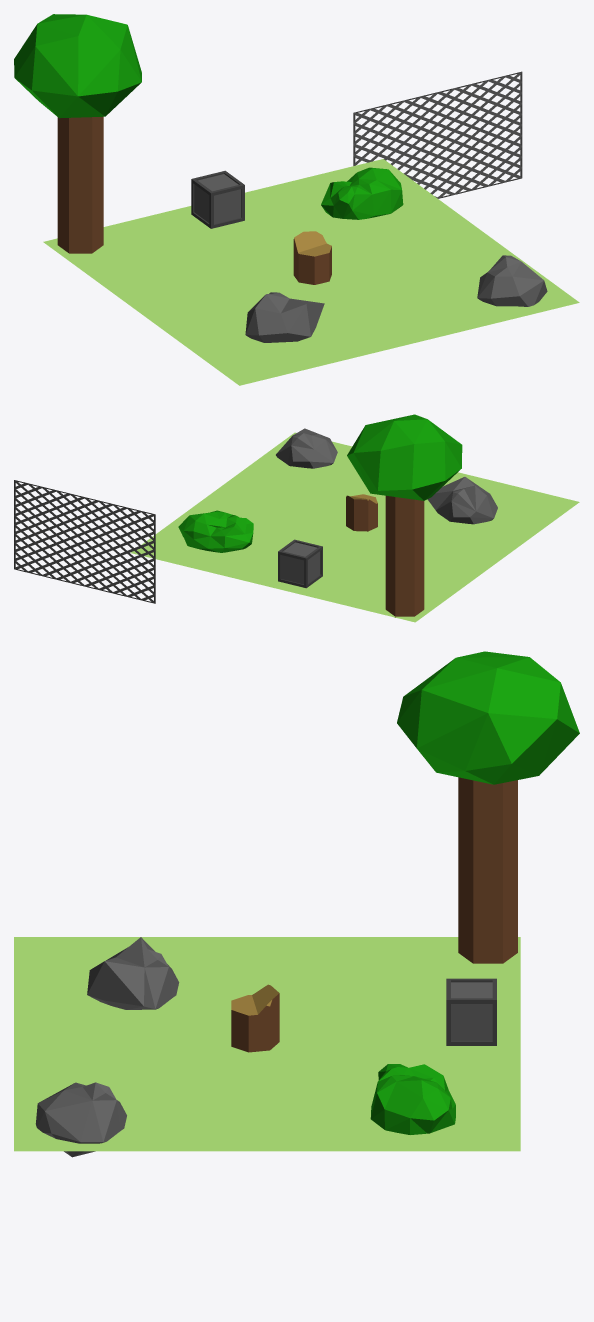
Rendered from SceneObjects.fbx.
3 renders of one model, top to bottom at view 1: azimuth 30°, elevation 25°; view 2: azimuth 150°, elevation 25°; view 3: azimuth 270°, elevation 25°, orthographic. The views are drawn at different scales.
Parts seen in each view (by area): view 1: Plane, Tree, Fence, Bush1, Bolder2, Bolder1, Cube, CutLog; view 2: Plane, Tree, Fence, Bush1, Bolder2, Cube, Bolder1, CutLog; view 3: Plane, Tree, Bush1, Bolder2, Bolder1, Cube, CutLog.
Boxes of the visible parts, box(x1,y1,x2,y2) form: Plane: box(43, 159, 579, 385); Tree: box(14, 14, 141, 253); Fence: box(353, 71, 522, 198); Bush1: box(321, 167, 403, 219); Bolder2: box(245, 292, 324, 342); Bolder1: box(477, 255, 547, 306); Cube: box(191, 170, 244, 228); CutLog: box(293, 231, 331, 284); Plane: box(130, 432, 579, 622); Tree: box(347, 414, 462, 617); Fence: box(14, 480, 155, 603); Bush1: box(178, 510, 253, 552); Bolder2: box(427, 477, 497, 524); Cube: box(278, 539, 322, 588); Bolder1: box(276, 428, 337, 468); CutLog: box(346, 494, 377, 531); Plane: box(14, 937, 520, 1151); Tree: box(397, 651, 579, 963); Bush1: box(370, 1064, 455, 1134); Bolder2: box(87, 937, 179, 1009); Bolder1: box(35, 1082, 126, 1157); Cube: box(446, 978, 496, 1045); CutLog: box(231, 984, 279, 1052).
Bounding box in the file's own units: 2234 × 1566 × 3011.
